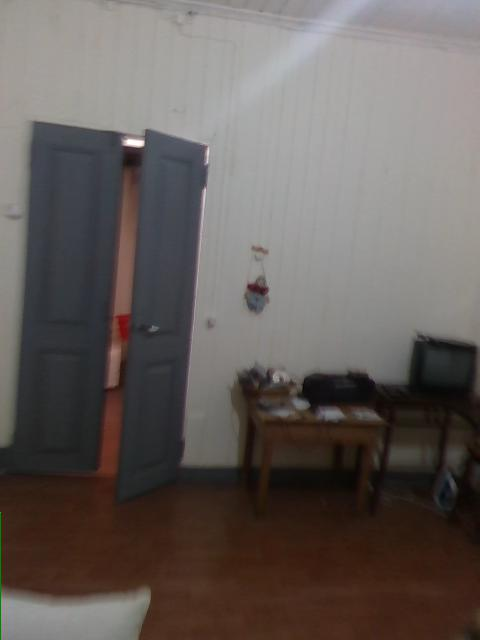semi_door: (8, 117, 207, 498)
